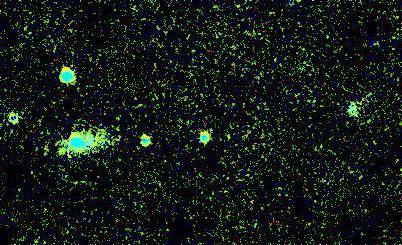star: (45, 139, 75, 169)
